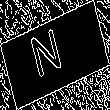N_S: (35, 25, 75, 85)
